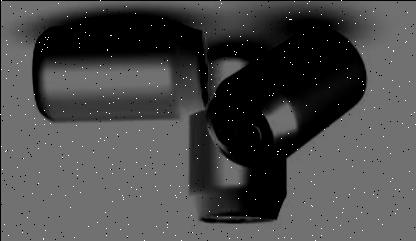Can: (205, 23, 366, 166), (185, 49, 286, 224), (33, 22, 205, 121)
